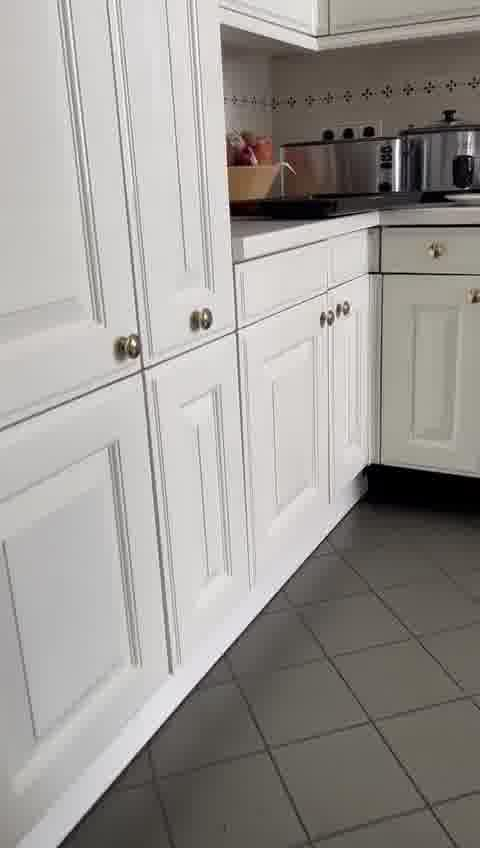cabinet_door: (0, 0, 145, 390), (138, 0, 239, 349), (241, 314, 334, 554), (378, 272, 480, 473), (333, 296, 364, 482), (384, 229, 475, 268)
handle: (110, 329, 148, 366), (183, 301, 218, 341), (461, 282, 480, 312), (333, 295, 354, 322), (426, 241, 443, 263), (318, 306, 328, 335)
